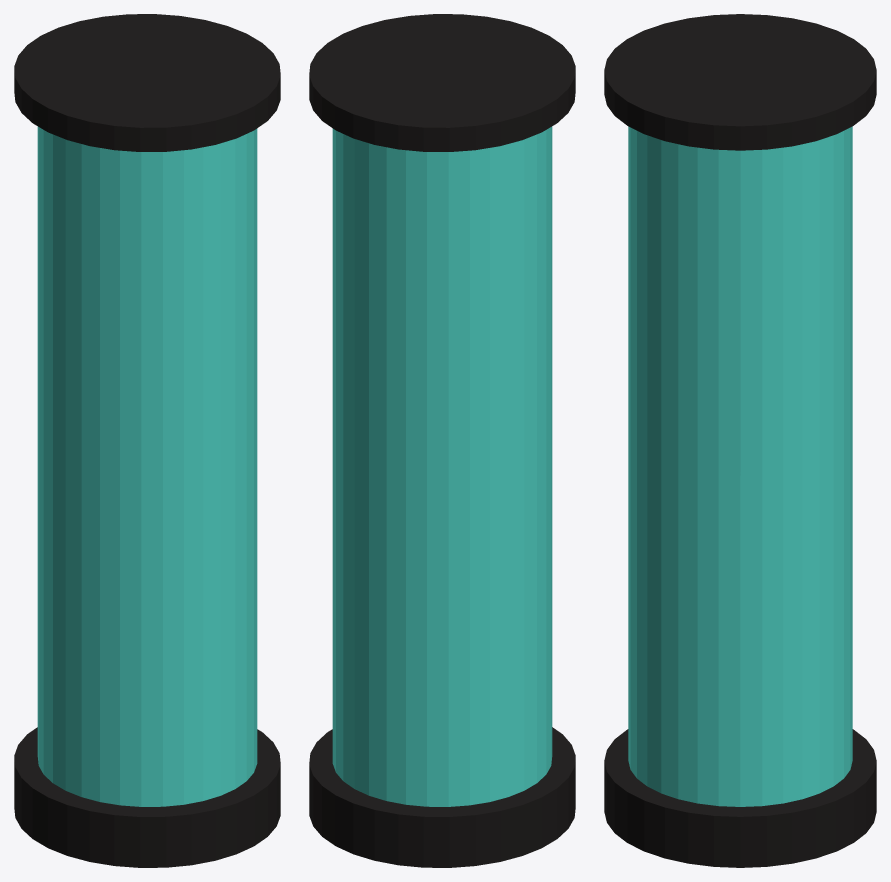
The model's file is TUBO-LAB-2.fbx.
3 renders of one model, left to right at view 1: azimuth 30°, elevation 25°; view 2: azimuth 150°, elevation 25°; view 3: azimuth 270°, elevation 25°, orthographic.
Visible parts, largest first — view 1: TuboCentro; view 2: TuboCentro; view 3: TuboCentro.
Boxes of the visible parts, x1=… form: TuboCentro: x1=14, y1=14, x2=280, y2=867; TuboCentro: x1=309, y1=14, x2=575, y2=867; TuboCentro: x1=604, y1=14, x2=876, y2=867.
Size of the model in its own units: 64.99 by 200 by 66.57.
